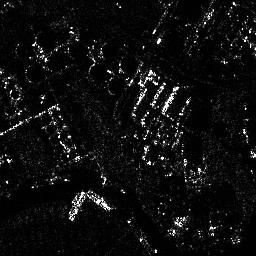ship: (66, 190, 86, 221), (86, 188, 112, 211)
